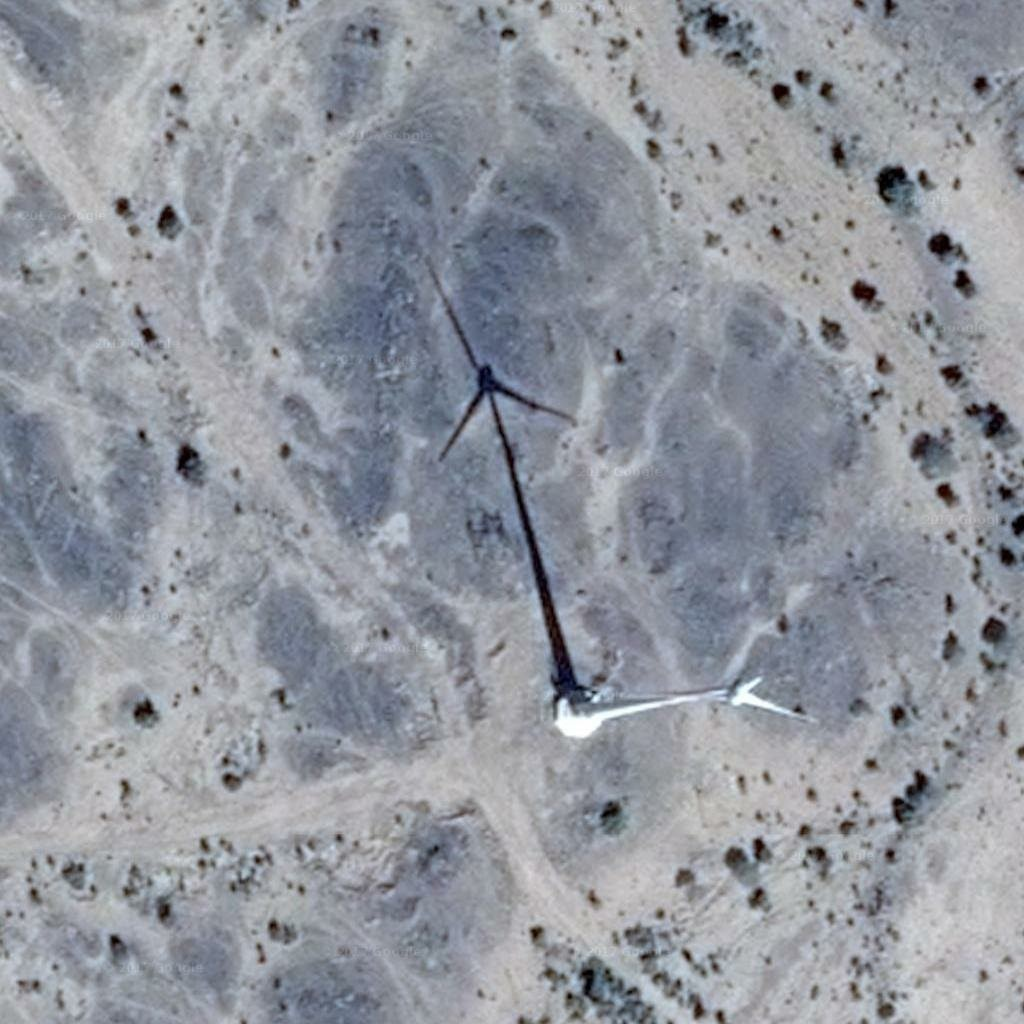Windmill: (422, 251, 601, 683)
